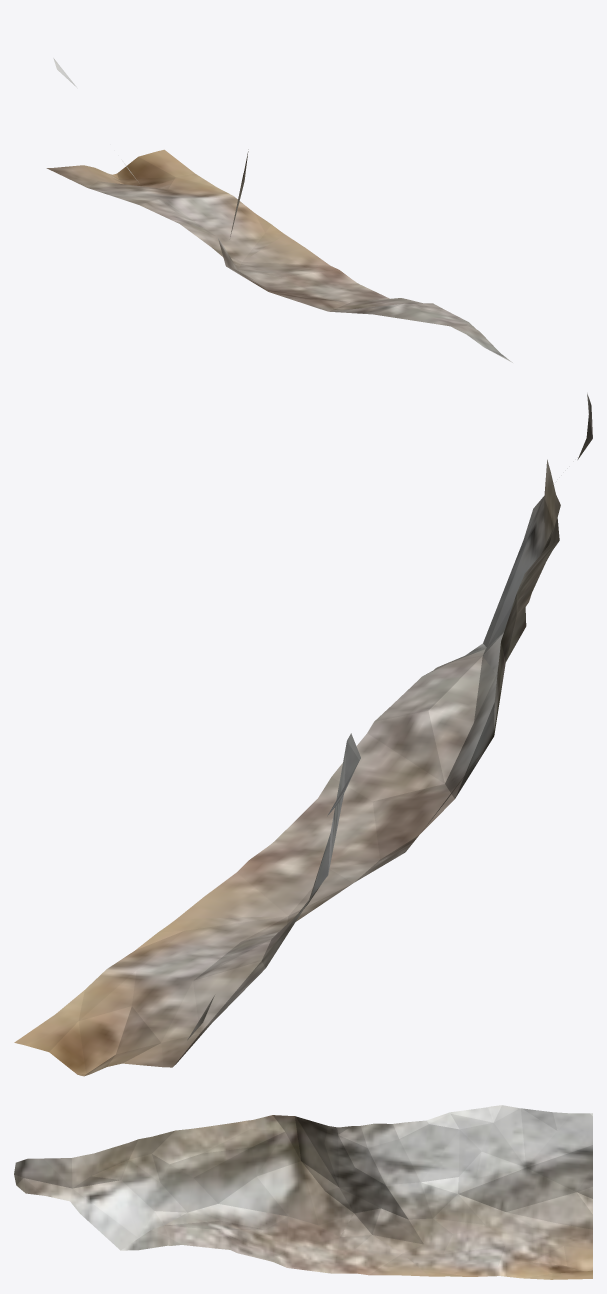
The picture shows the model from 3 angles, top to bottom: view 1: azimuth 30°, elevation 25°; view 2: azimuth 150°, elevation 25°; view 3: azimuth 270°, elevation 25°; orthographic projection. The views are drawn at different scales.
Size of the model in its own units: 0.5288 by 0.5389 by 2.25.
1 material, 1 textured.
